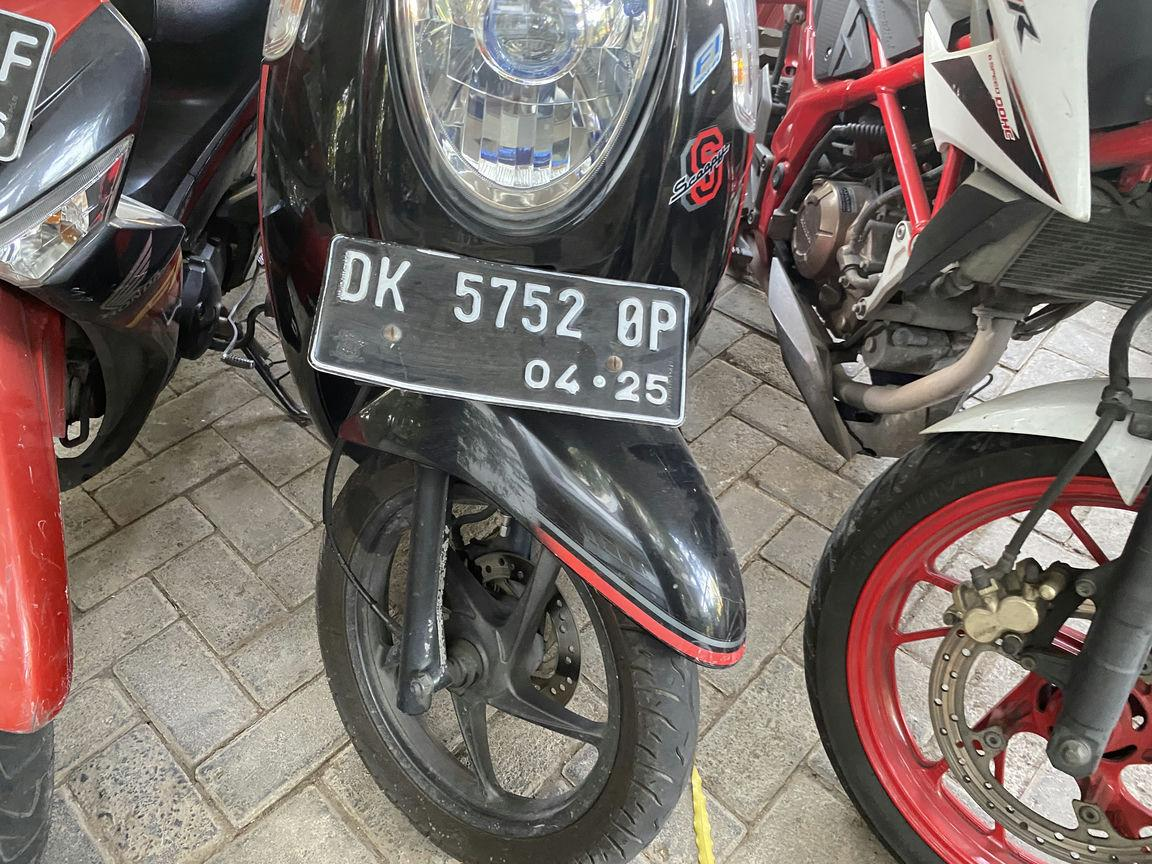plat: (308, 236, 688, 425)
